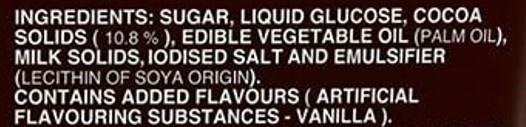ingredients: (7, 0, 520, 127)
